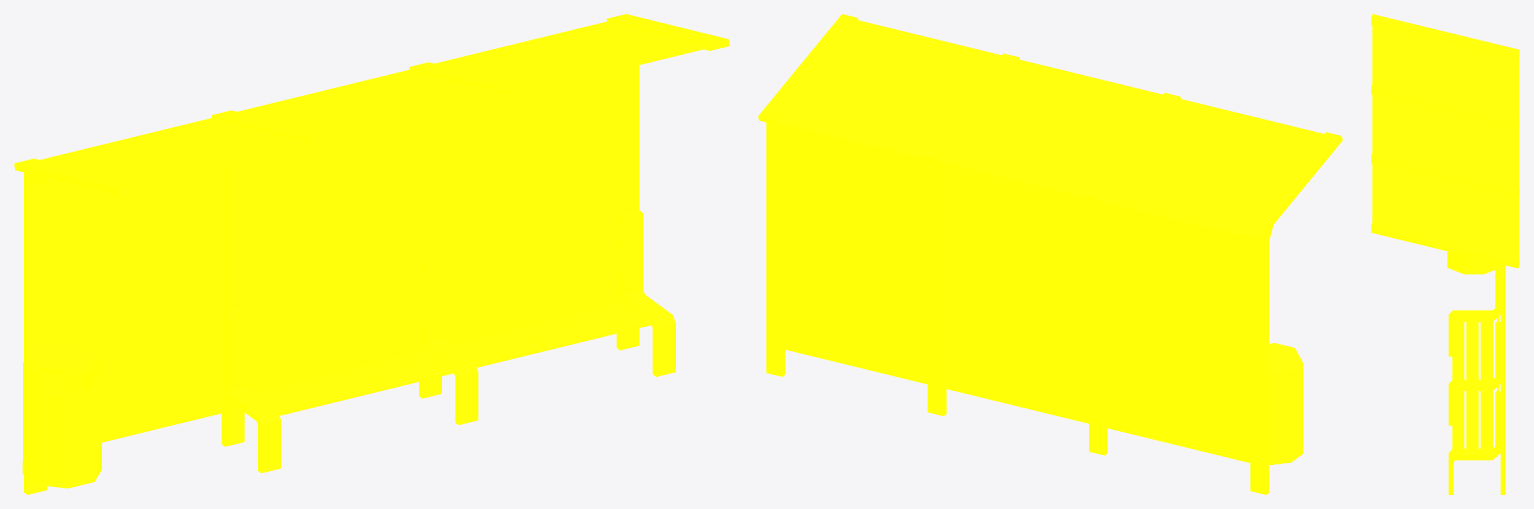
File: bus-stop.glb
3 renders of one model, left to right at view 1: azimuth 30°, elevation 25°; view 2: azimuth 150°, elevation 25°; view 3: azimuth 270°, elevation 25°, orthographic. The views are drawn at different scales.
Parts seen in each view (by area): view 1: bus-stop; view 2: bus-stop; view 3: bus-stop.
Part boxes in pixels (left/top/right/bottom): bus-stop: left=14, top=14, right=729, bottom=494; bus-stop: left=758, top=14, right=1342, bottom=494; bus-stop: left=1371, top=14, right=1519, bottom=494.
Size of the model in its own units: 5.13 by 2.9 by 1.46.
Materials: 1 (1 with a texture image).
